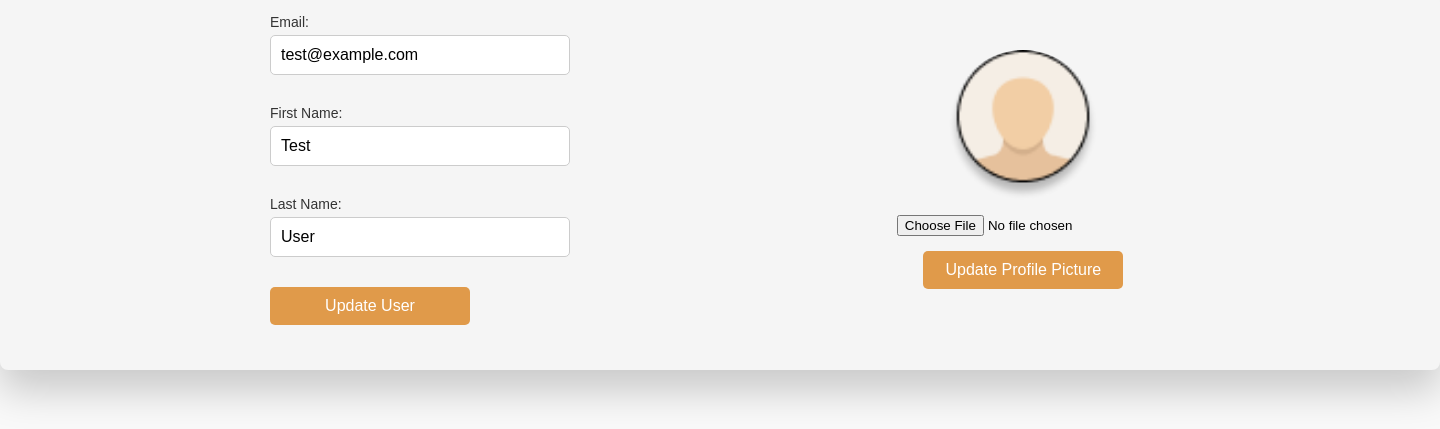
Test case: UpdateUserForm › displays a loading spinner during user update
The image size is (1440, 429).
Click the button "Update User" at (370, 306), box x1=270 y1=287 x2=470 y2=325
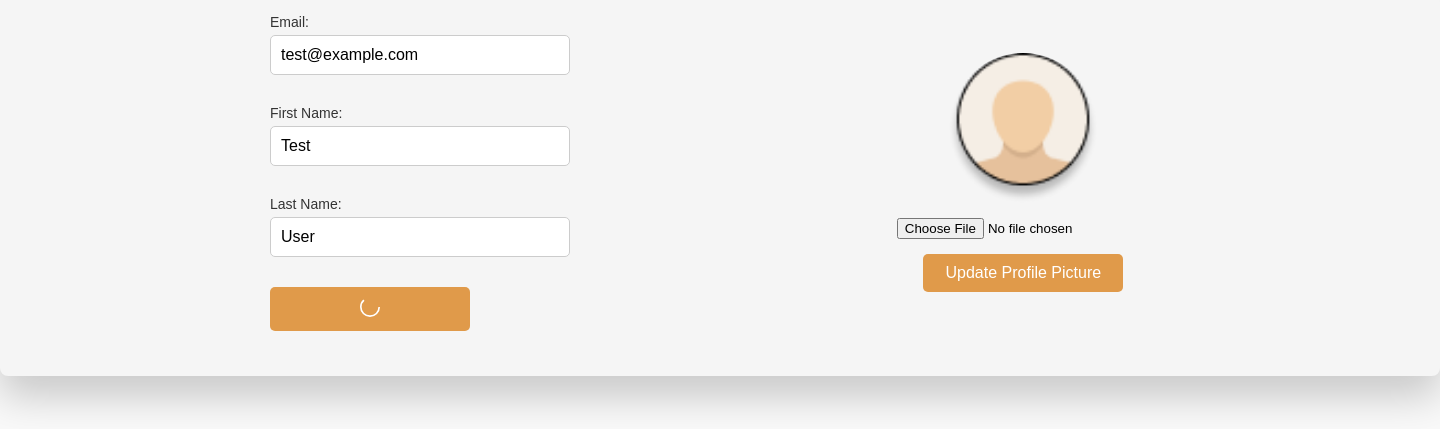
Result: the progress indicator is shown at x1=360 y1=297 x2=380 y2=317
